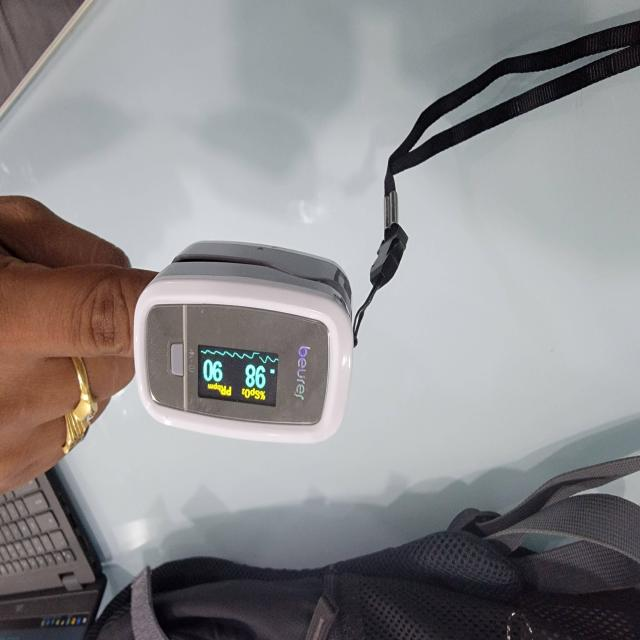spo2: (135, 243, 354, 444)
